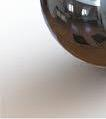ironball: (32, 0, 105, 71)
